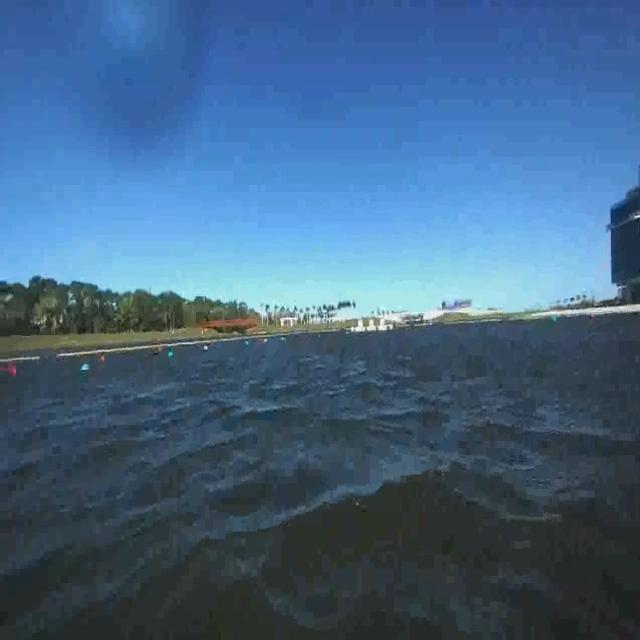red-buoy: (8, 365, 17, 374)
